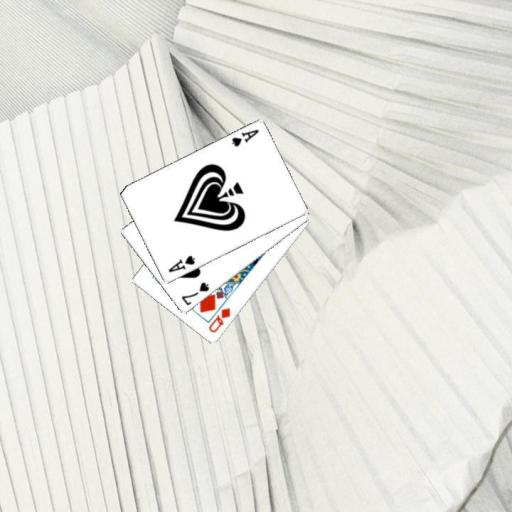7S: (179, 279, 211, 307)
AS: (229, 127, 261, 149), (165, 253, 196, 275)
QD: (205, 305, 232, 334)
